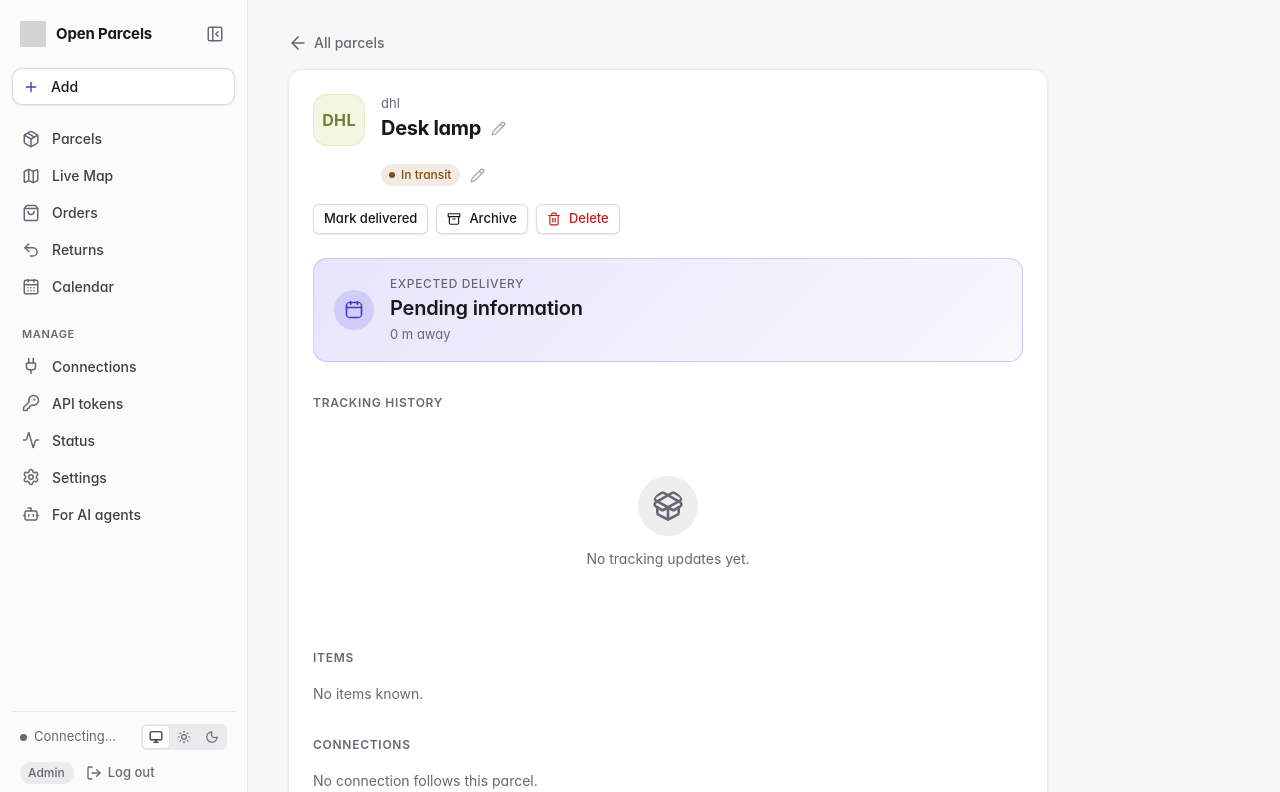
Test: editing a parcel in place › renames with the pencil and Enter, and Escape leaves it as it was
This screenshot has width=1280, height=792.
Click the button named "Rename" at (498, 128), box [485, 116, 511, 142]
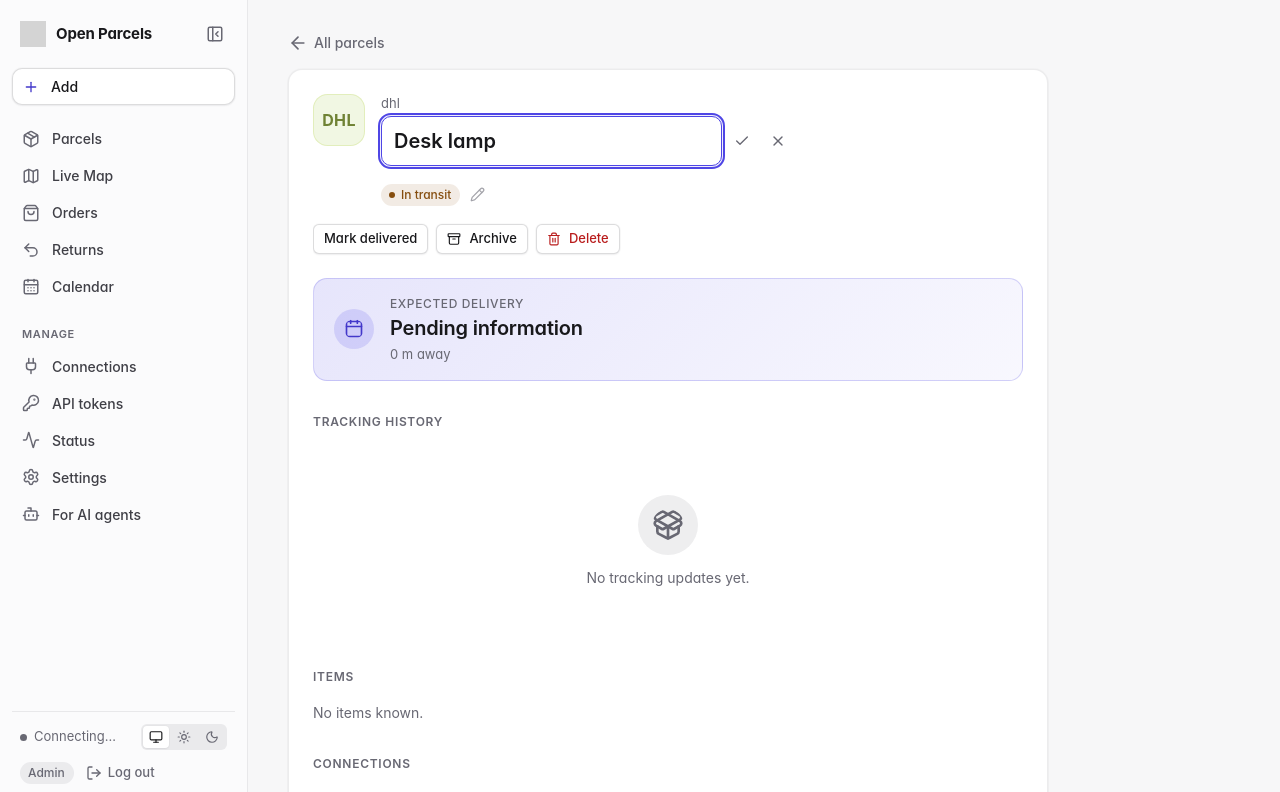
Type keys "{Control>}a{/Control}Floor lamp{Enter}"
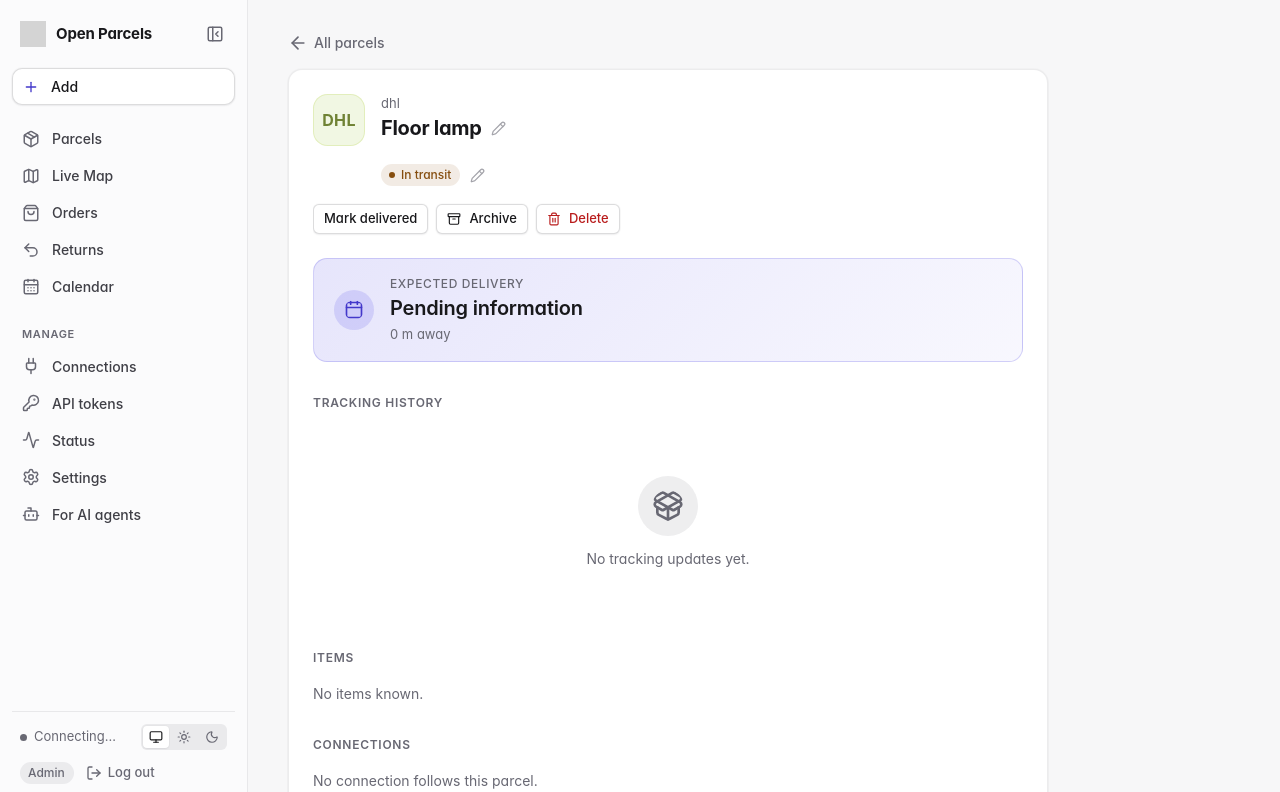
Expected: the heading "Floor lamp" is shown, [381, 117, 482, 140]
Click the button named "Rename" at (498, 128), box [486, 116, 512, 142]
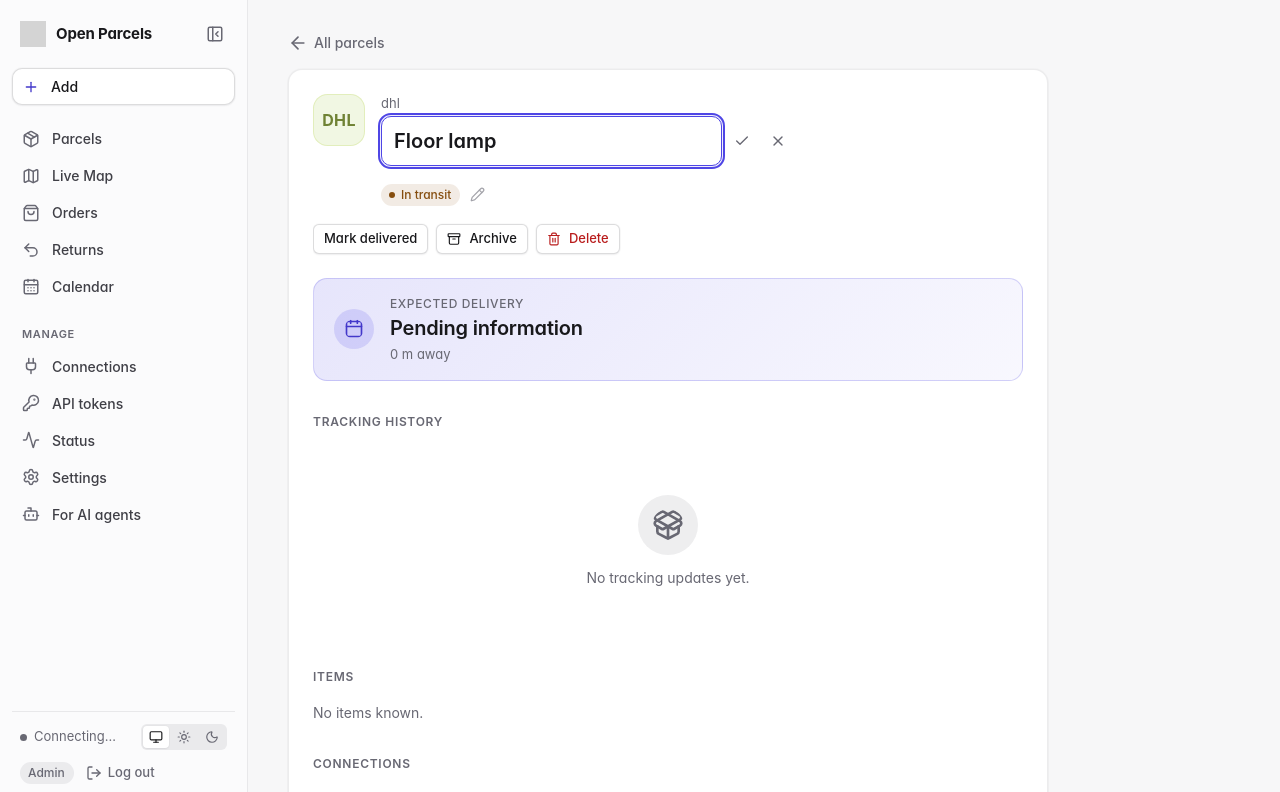
Type keys " changed{Escape}"
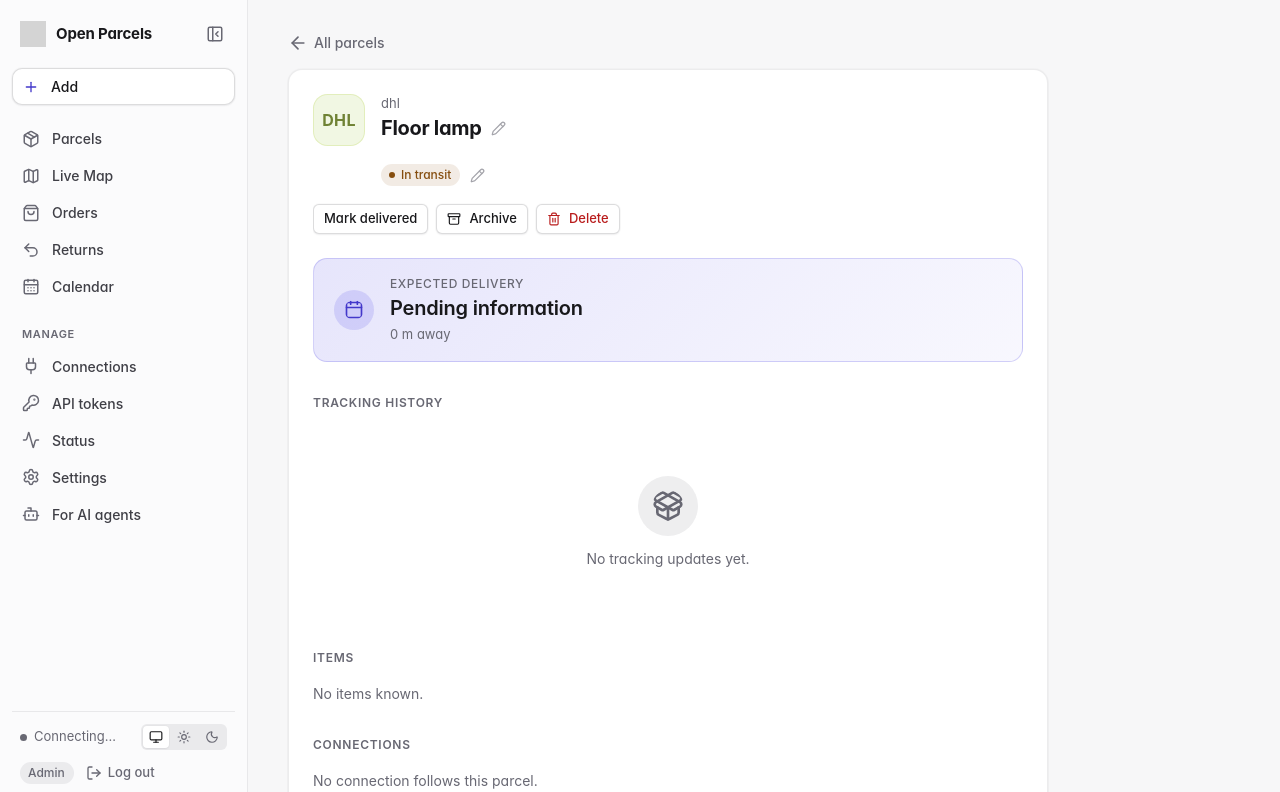
Expected: the heading "Floor lamp" is shown, [381, 117, 482, 140]
